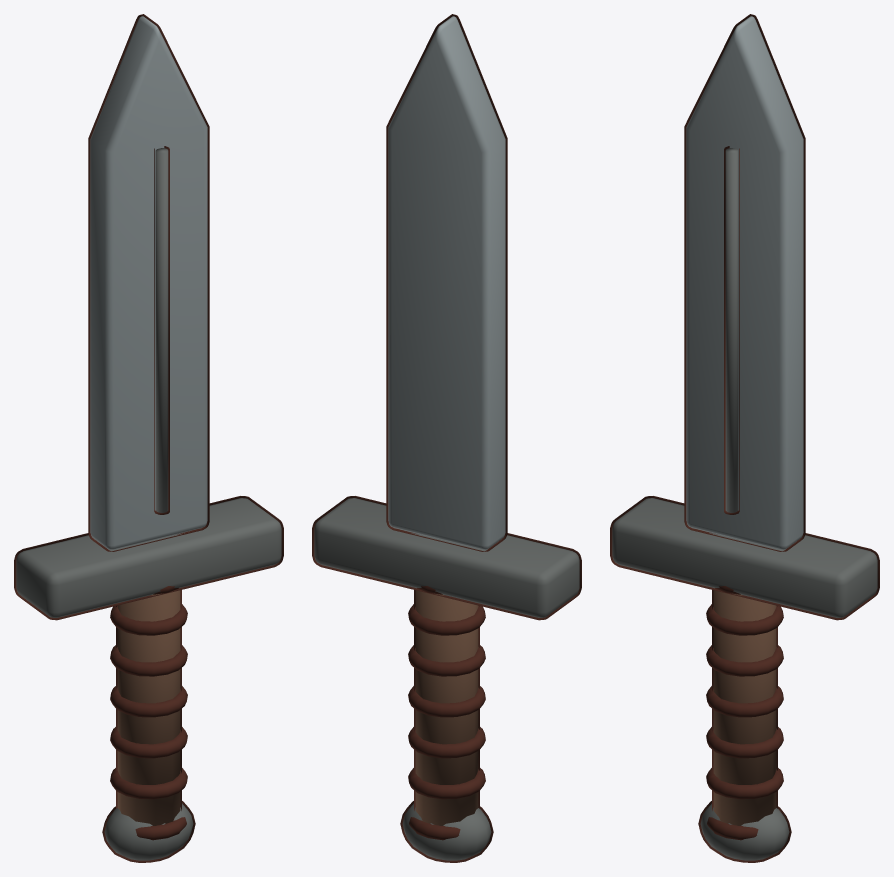
File: schwert.glb
3 renders of one model, left to right at view 1: azimuth 30°, elevation 25°; view 2: azimuth 150°, elevation 25°; view 3: azimuth 330°, elevation 25°, orthographic.
Visible parts, largest first — view 1: Krieger_Schwert_Gewoehnlich_v1_Grip_Leather; view 2: Krieger_Schwert_Gewoehnlich_v1_Grip_Leather; view 3: Krieger_Schwert_Gewoehnlich_v1_Grip_Leather.
Part boxes in pixels (x1,y1,x2,y2): Krieger_Schwert_Gewoehnlich_v1_Grip_Leather: [14, 14, 283, 862]; Krieger_Schwert_Gewoehnlich_v1_Grip_Leather: [312, 14, 581, 862]; Krieger_Schwert_Gewoehnlich_v1_Grip_Leather: [610, 14, 879, 862].
Size of the model in its own units: 0.305 by 1.03 by 0.0899.
